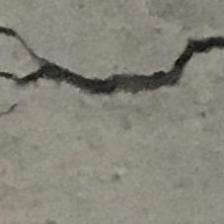Crack: (0, 25, 224, 102)
